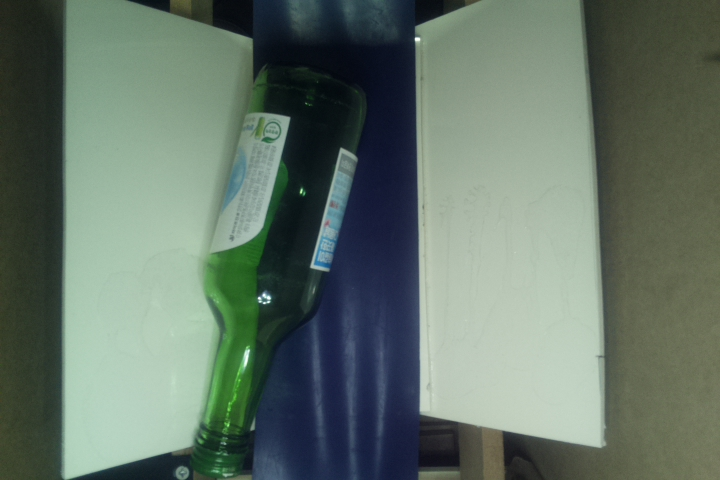soju: (187, 58, 370, 480)
